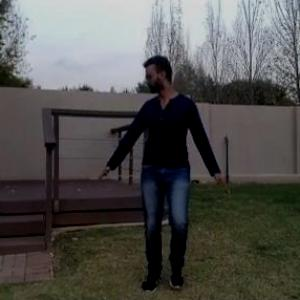land: (102, 52, 224, 288)
